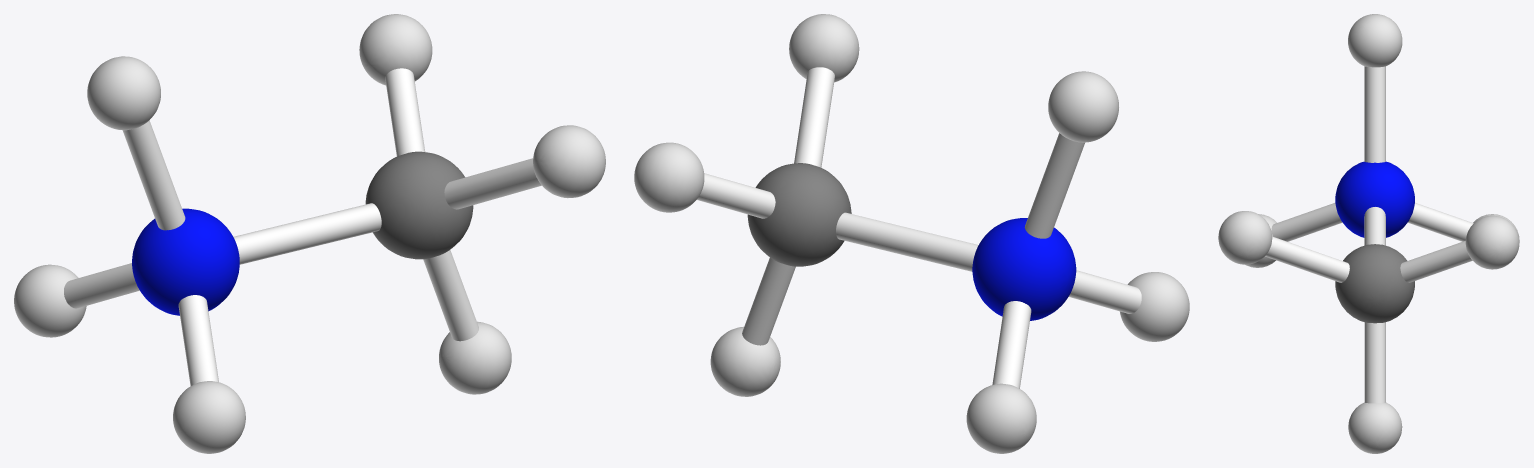
Rendered from Methylammonium_ion.dae.
3 views of the same model, side by side, from view 1: azimuth 30°, elevation 25°; view 2: azimuth 150°, elevation 25°; view 3: azimuth 270°, elevation 25° (orthographic). The views are drawn at different scales.
Parts seen in each view (by area): view 1: Methylammonium_ion_pSphere17, Methylammonium_ion_pSphere22, pSphere27_Methylammonium_ion, Methylammonium_ion_pCylinder16, Methylammonium_ion_pSphere23, Methylammonium_ion_pSphere16, Methylammonium_ion_pSphere21, Methylammonium_ion_pSphere20, Methylammonium_ion_pSphere15, Methylammonium_ion_pCylinder13, Methylammonium_ion_pCylinder18, Methylammonium_ion_pCylinder20 (+3 smaller); view 2: Methylammonium_ion_pSphere17, Methylammonium_ion_pSphere22, pSphere27_Methylammonium_ion, Methylammonium_ion_pCylinder16, Methylammonium_ion_pSphere20, Methylammonium_ion_pSphere15, Methylammonium_ion_pSphere21, Methylammonium_ion_pSphere23, Methylammonium_ion_pSphere16, Methylammonium_ion_pCylinder13, Methylammonium_ion_pCylinder18, Methylammonium_ion_pCylinder20 (+3 smaller); view 3: Methylammonium_ion_pSphere22, Methylammonium_ion_pSphere17, pSphere27_Methylammonium_ion, Methylammonium_ion_pSphere20, Methylammonium_ion_pSphere23, Methylammonium_ion_pSphere21, Methylammonium_ion_pCylinder13, Methylammonium_ion_pCylinder18, Methylammonium_ion_pCylinder20, Methylammonium_ion_pCylinder19, Methylammonium_ion_pCylinder15, Methylammonium_ion_pCylinder14 (+1 smaller).
Boxes of the visible parts, x1,y1,x2,y2 form: Methylammonium_ion_pSphere17: (132,208,239,315); Methylammonium_ion_pSphere22: (365,151,473,259); pSphere27_Methylammonium_ion: (87,56,160,130); Methylammonium_ion_pCylinder16: (233,203,381,264); Methylammonium_ion_pSphere23: (533,125,605,198); Methylammonium_ion_pSphere16: (173,381,245,453); Methylammonium_ion_pSphere21: (439,321,511,394); Methylammonium_ion_pSphere20: (359,14,432,85); Methylammonium_ion_pSphere15: (14,264,86,337); Methylammonium_ion_pCylinder13: (122,120,185,230); Methylammonium_ion_pCylinder18: (444,158,541,209); Methylammonium_ion_pCylinder20: (423,250,478,341); Methylammonium_ion_pSphere17: (972,218,1076,320); Methylammonium_ion_pSphere22: (747,163,851,266); pSphere27_Methylammonium_ion: (1048,71,1118,142); Methylammonium_ion_pCylinder16: (836,212,978,271); Methylammonium_ion_pSphere20: (634,142,704,212); Methylammonium_ion_pSphere15: (966,383,1036,453); Methylammonium_ion_pSphere21: (710,326,780,396); Methylammonium_ion_pSphere23: (789,14,859,82); Methylammonium_ion_pSphere16: (1120,272,1189,341); Methylammonium_ion_pCylinder13: (1024,133,1084,238); Methylammonium_ion_pCylinder18: (794,67,834,167); Methylammonium_ion_pCylinder20: (742,257,795,345); Methylammonium_ion_pSphere22: (1335,244,1414,323); Methylammonium_ion_pSphere17: (1335,161,1414,237); pSphere27_Methylammonium_ion: (1348,14,1402,67); Methylammonium_ion_pSphere20: (1465,215,1519,269); Methylammonium_ion_pSphere23: (1218,211,1272,264); Methylammonium_ion_pSphere21: (1348,402,1402,453); Methylammonium_ion_pCylinder13: (1364,66,1385,162); Methylammonium_ion_pCylinder18: (1265,236,1349,282); Methylammonium_ion_pCylinder20: (1364,322,1385,403); Methylammonium_ion_pCylinder19: (1400,240,1472,282); Methylammonium_ion_pCylinder15: (1271,203,1342,241); Methylammonium_ion_pCylinder14: (1408,202,1473,241).
Size of what is drawn, in the model's own units: 1.8 by 1.51 by 1.7.
